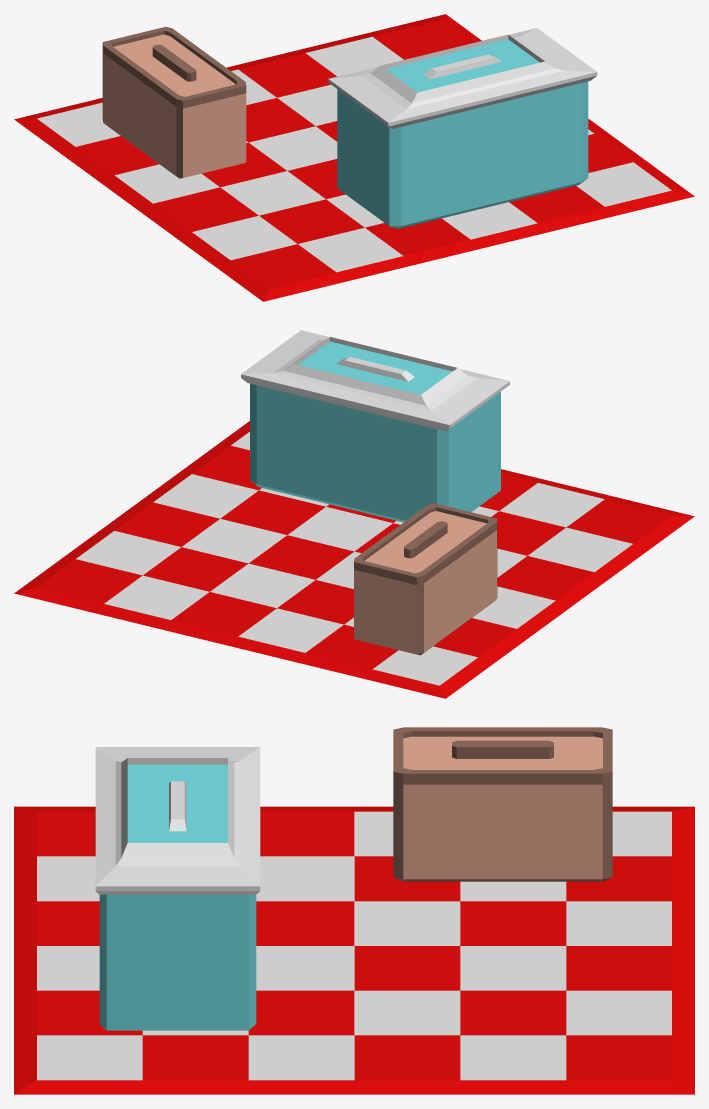
The model's file is Picnic.fbx.
3 views of the same model, one above another, from view 1: azimuth 30°, elevation 25°; view 2: azimuth 150°, elevation 25°; view 3: azimuth 270°, elevation 25° (orthographic). The views are drawn at different scales.
Parts seen in each view (by area): view 1: PicnicMain, PicnicFridge, PicnicFridgeDoor, PicnicBasket, PicnicBasketDoor; view 2: PicnicMain, PicnicFridge, PicnicFridgeDoor, PicnicBasket, PicnicBasketDoor; view 3: PicnicMain, PicnicFridgeDoor, PicnicFridge, PicnicBasket, PicnicBasketDoor.
Boxes of the visible parts, left/top/right/bottom form: PicnicMain: left=14, top=14, right=694, bottom=301; PicnicFridge: left=337, top=81, right=588, bottom=228; PicnicFridgeDoor: left=328, top=28, right=597, bottom=128; PicnicBasket: left=102, top=50, right=246, bottom=178; PicnicBasketDoor: left=102, top=26, right=246, bottom=108; PicnicMain: left=14, top=421, right=694, bottom=698; PicnicFridge: left=250, top=383, right=500, bottom=522; PicnicFridgeDoor: left=241, top=330, right=509, bottom=431; PicnicBasket: left=354, top=529, right=497, bottom=655; PicnicBasketDoor: left=354, top=503, right=497, bottom=585; PicnicMain: left=14, top=806, right=694, bottom=1094; PicnicFridgeDoor: left=95, top=747, right=260, bottom=894; PicnicFridge: left=99, top=894, right=256, bottom=1030; PicnicBasket: left=393, top=782, right=612, bottom=881; PicnicBasketDoor: left=393, top=727, right=612, bottom=784.
Bounding box in the file's own units: 2.14 × 2.14 × 0.6402.
